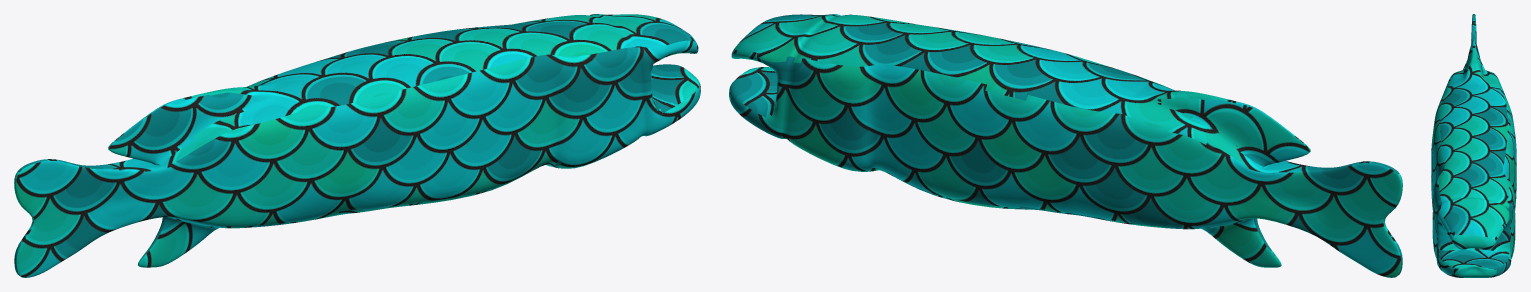
Rendered from Fish.fbx.
3 views of the same model, side by side, from view 1: azimuth 30°, elevation 25°; view 2: azimuth 150°, elevation 25°; view 3: azimuth 270°, elevation 25° (orthographic). The views are drawn at different scales.
Parts seen in each view (by area): view 1: Cube; view 2: Cube; view 3: Cube.
Boxes of the visible parts, x1,y1,x2,y2 form: Cube: [14, 14, 700, 277]; Cube: [729, 14, 1402, 277]; Cube: [1431, 14, 1516, 277].
Size of the model in its own units: 430 by 98.61 by 72.67.
